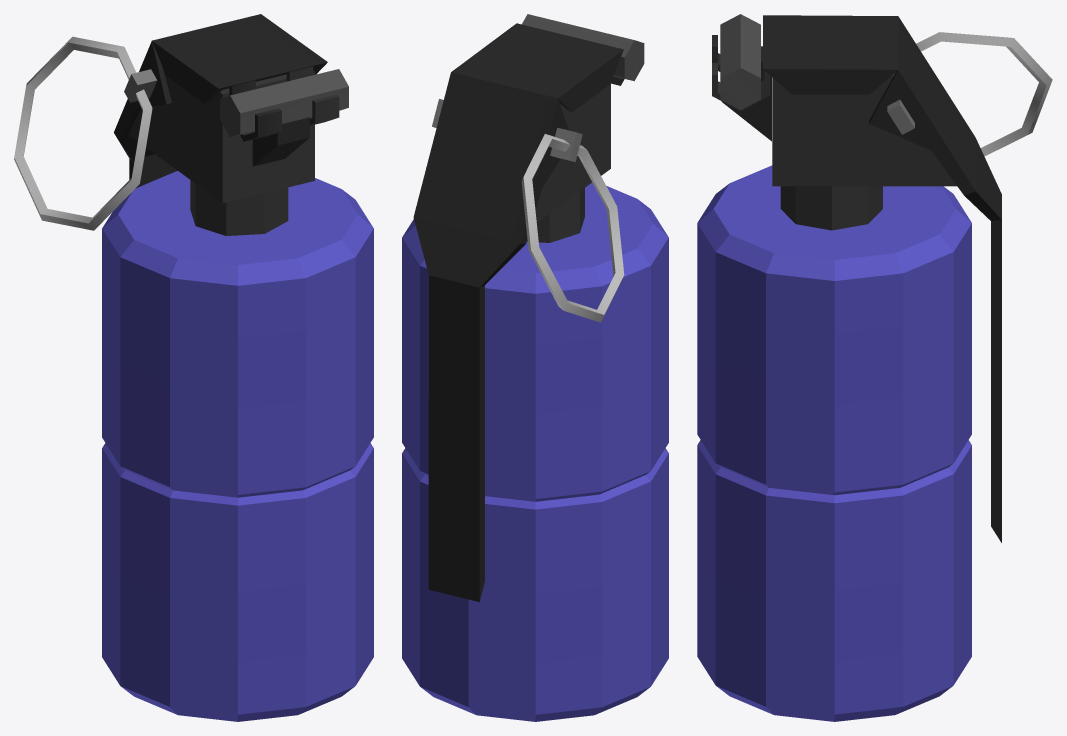
File: Concussive1.FBX
The picture shows the model from 3 angles, left to right: view 1: azimuth 30°, elevation 25°; view 2: azimuth 150°, elevation 25°; view 3: azimuth 270°, elevation 25°; orthographic projection. The views are drawn at different scales.
Visible parts, largest first — view 1: Cylinder003, Sphere004, Object002, Object019; view 2: Cylinder003, Sphere004, Object002, Object019; view 3: Cylinder003, Sphere004, Object002, Object019.
Part boxes in pixels (left/top/right/bottom): Cylinder003: left=102, top=170, right=373, bottom=721; Sphere004: left=114, top=14, right=348, bottom=235; Object002: left=14, top=36, right=152, bottom=230; Object019: left=124, top=69, right=157, bottom=102; Cylinder003: left=402, top=182, right=668, bottom=721; Sphere004: left=413, top=14, right=644, bottom=601; Object002: left=521, top=134, right=624, bottom=322; Object019: left=432, top=99, right=582, bottom=161; Cylinder003: left=697, top=165, right=971, bottom=721; Sphere004: left=712, top=14, right=1001, bottom=542; Object002: left=916, top=32, right=1052, bottom=156; Object019: left=887, top=99, right=914, bottom=134.
Bounding box in the file's own units: 0.1282 × 0.3033 × 0.1551.
